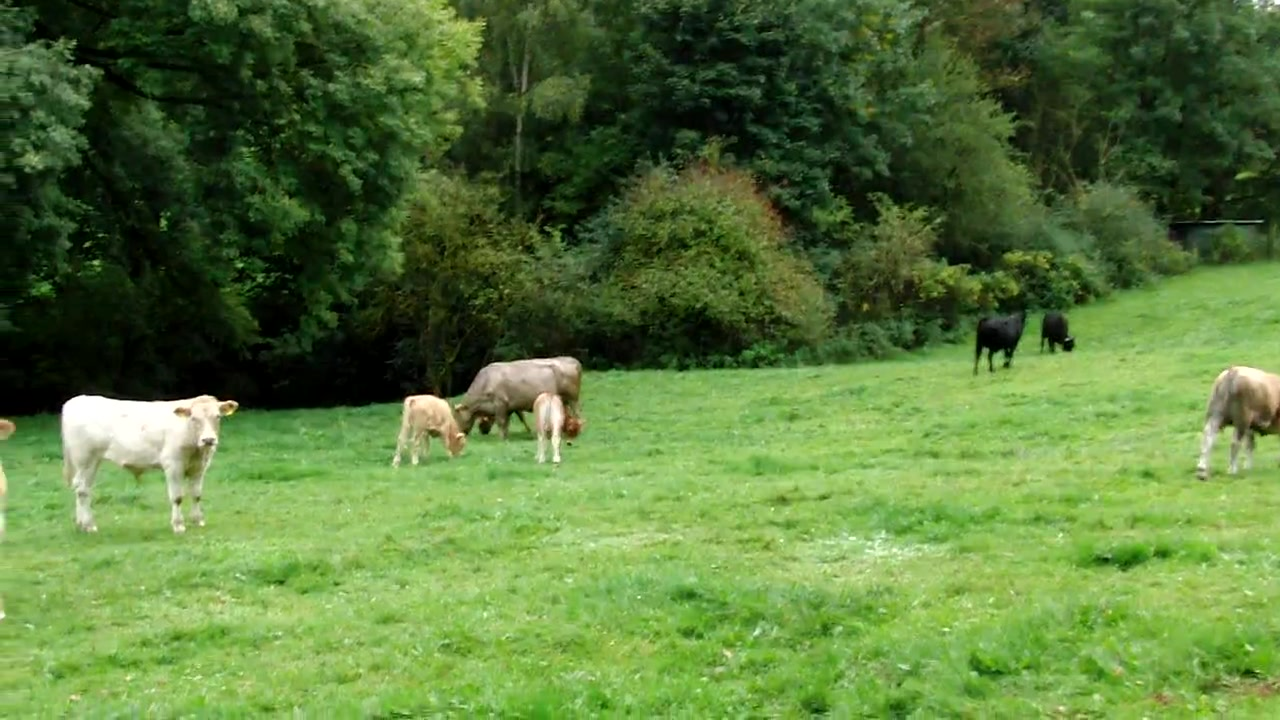cow: (61, 390, 238, 539)
